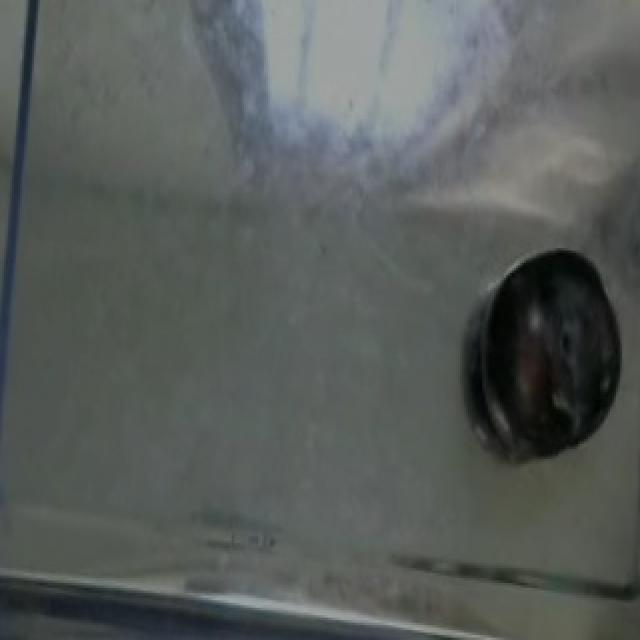Fruit: (472, 236, 634, 459)
